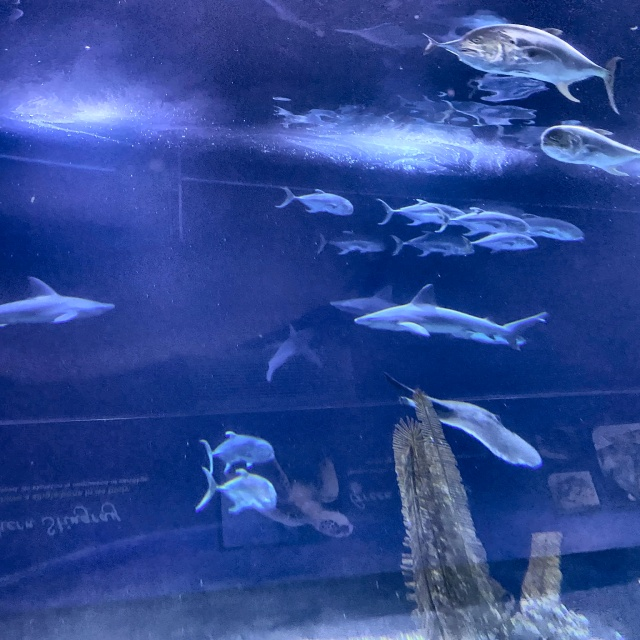fish: (456, 23, 623, 116), (540, 125, 639, 177), (196, 467, 276, 512), (202, 431, 274, 471), (379, 197, 467, 227), (501, 212, 585, 242), (435, 206, 528, 233), (276, 185, 354, 215), (420, 32, 510, 58), (393, 228, 472, 256), (318, 230, 385, 256), (464, 233, 540, 253)
shark: (354, 283, 549, 351), (0, 278, 117, 325), (330, 285, 445, 320), (266, 323, 318, 381)
stingray: (397, 396, 542, 468)
